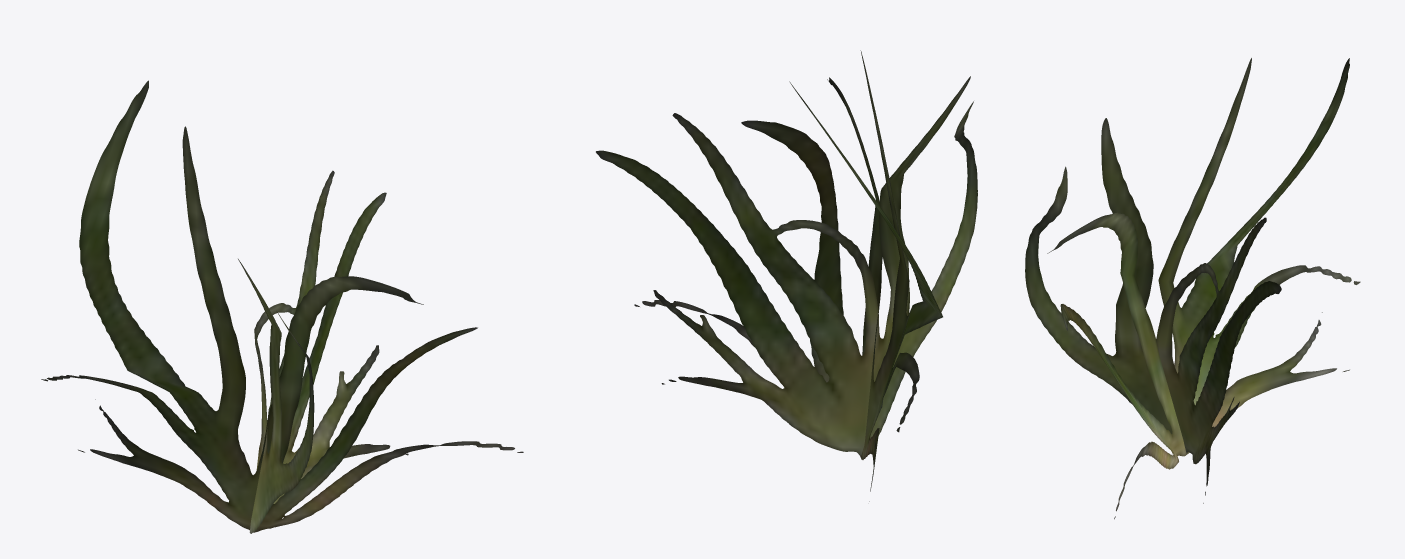
Rendered from grass_bermuda_01_small_c.gltf.
3 views of the same model, side by side, from view 1: azimuth 30°, elevation 25°; view 2: azimuth 150°, elevation 25°; view 3: azimuth 270°, elevation 25° (orthographic). The views are drawn at different scales.
Parts seen in each view (by area): view 1: grass_bermuda_01_small_c; view 2: grass_bermuda_01_small_c; view 3: grass_bermuda_01_small_c.
Part boxes in pixels (bbox=[...]): grass_bermuda_01_small_c: bbox=[41, 80, 523, 533]; grass_bermuda_01_small_c: bbox=[596, 50, 977, 501]; grass_bermuda_01_small_c: bbox=[1025, 58, 1360, 519].
Bounding box in the file's own units: 0.054 × 0.0552 × 0.0415.
Materials: 1 (1 with a texture image).
